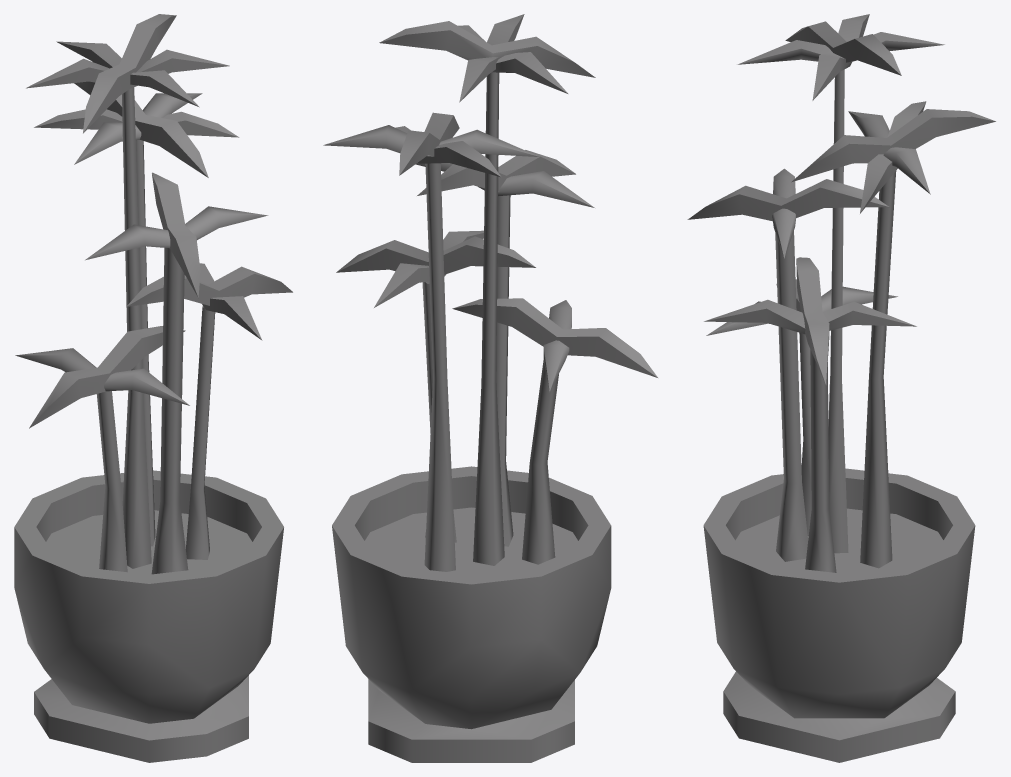
The model's file is SM_Prop_PotPlant_02.obj.
3 renders of one model, left to right at view 1: azimuth 30°, elevation 25°; view 2: azimuth 150°, elevation 25°; view 3: azimuth 270°, elevation 25°, orthographic. The views are drawn at different scales.
Parts seen in each view (by area): view 1: SM_Prop_PotPlant_02_Mat_PolygonCity_Texture_01_A; view 2: SM_Prop_PotPlant_02_Mat_PolygonCity_Texture_01_A; view 3: SM_Prop_PotPlant_02_Mat_PolygonCity_Texture_01_A.
Boxes of the visible parts, <box> form: SM_Prop_PotPlant_02_Mat_PolygonCity_Texture_01_A: <box>14,14,292,762</box>; SM_Prop_PotPlant_02_Mat_PolygonCity_Texture_01_A: <box>323,14,657,762</box>; SM_Prop_PotPlant_02_Mat_PolygonCity_Texture_01_A: <box>687,14,995,762</box>.
Size of the model in its own units: 0.6937 by 1.56 by 0.6392.
Materials: 1 (1 with a texture image).
